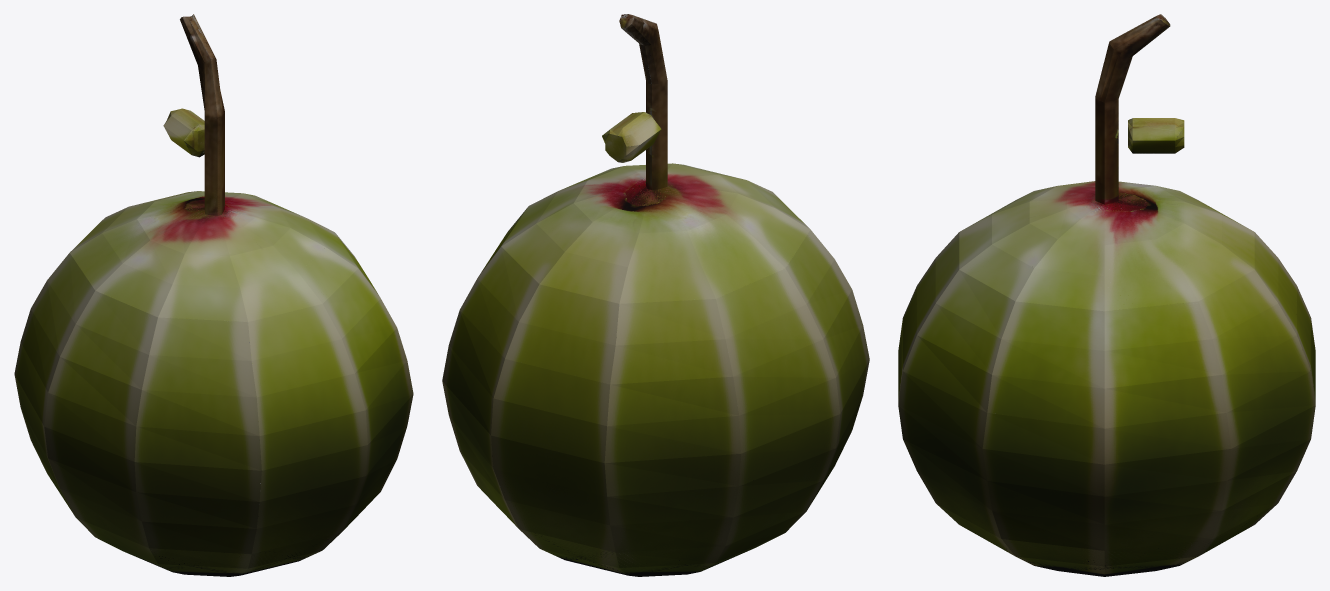
3 renders of one model, left to right at view 1: azimuth 30°, elevation 25°; view 2: azimuth 150°, elevation 25°; view 3: azimuth 270°, elevation 25°, orthographic. The views are drawn at different scales.
Parts seen in each view (by area): view 1: textured.obj; view 2: textured.obj; view 3: textured.obj.
Part boxes in pixels (x1,y1,x2,y2): textured.obj: (14,14,413,576); textured.obj: (442,14,869,576); textured.obj: (898,14,1315,576).
Bounding box in the file's own units: 1.37 × 2 × 1.4.
Materials: 1 (1 with a texture image).
